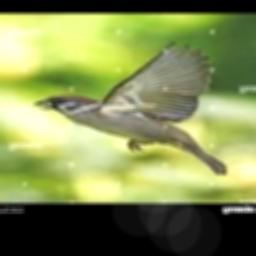Sparrow: (35, 43, 227, 174)
